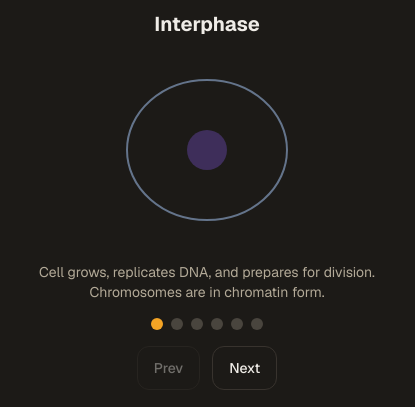
Scenario: MitosisSteps › disables Next on last step
What coordinates should you click on to do the following:
click the button "Next"
I would click on:
 (245, 368)
Its box is x1=212 y1=346 x2=277 y2=390.
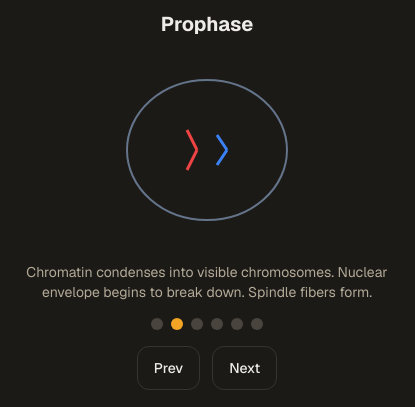
What coordinates should you click on to do the following:
click the button "Next"
I would click on:
 (245, 368)
Its box is x1=212 y1=346 x2=277 y2=390.
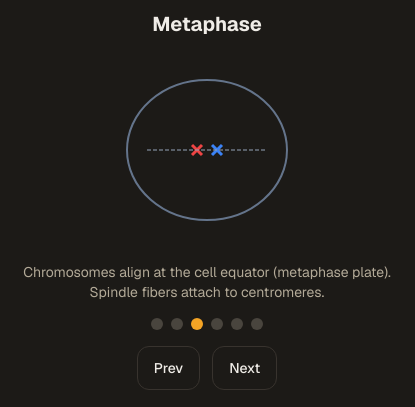
What coordinates should you click on to do the following:
click the button "Next"
I would click on:
 (245, 368)
Its box is x1=212 y1=346 x2=277 y2=390.
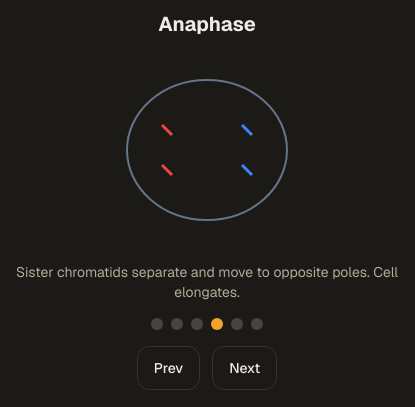
What coordinates should you click on to do the following:
click the button "Next"
I would click on:
 (245, 368)
Its box is x1=212 y1=346 x2=277 y2=390.
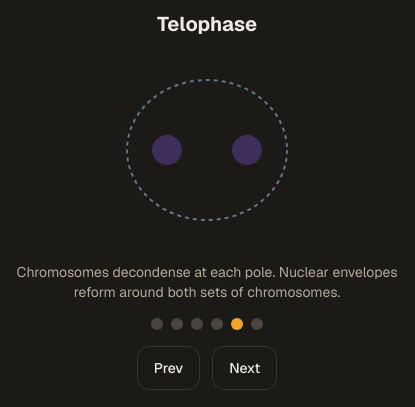
What coordinates should you click on to do the following:
click the button "Next"
I would click on:
 (245, 368)
Its box is x1=212 y1=346 x2=277 y2=390.
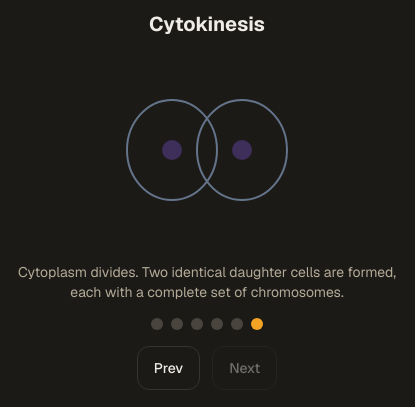
Now the button "Next" is disabled, box x1=212 y1=346 x2=277 y2=390
